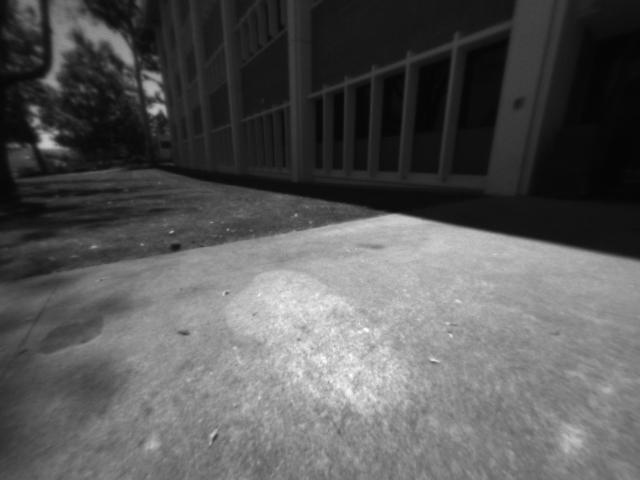dogtoy: (163, 232, 186, 254)
